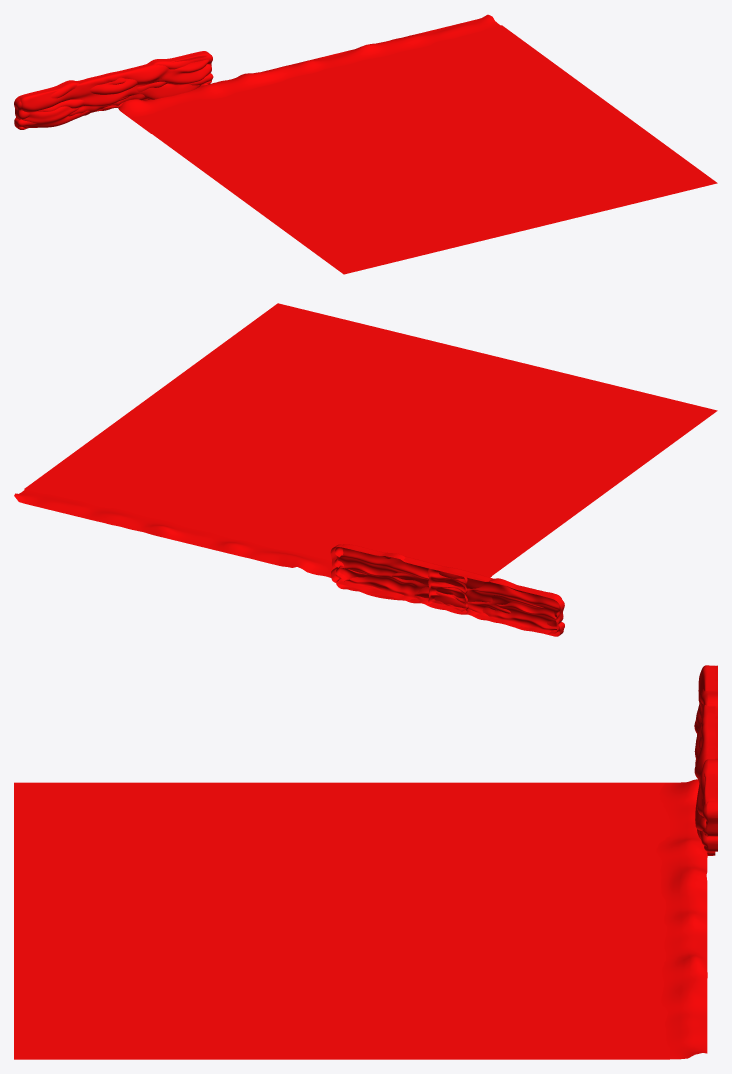
The model's file is Enviroment 1.fbx.
3 renders of one model, top to bottom at view 1: azimuth 30°, elevation 25°; view 2: azimuth 150°, elevation 25°; view 3: azimuth 270°, elevation 25°, orthographic. The views are drawn at different scales.
Visible parts, largest first — view 1: Suelo_2, Suelo, Pared_4, Pared_5; view 2: Suelo_2, Pared_5, Suelo, Pared_4, Pared_6; view 3: Suelo_2, Suelo, Pared_4, Pared_5.
Boxes of the visible parts, x1=… form: Suelo_2: x1=128, y1=25, x2=717, y2=274; Suelo: x1=118, y1=14, x2=500, y2=133; Pared_4: x1=19, y1=52, x2=211, y2=127; Pared_5: x1=14, y1=51, x2=213, y2=129; Suelo_2: x1=24, y1=303, x2=717, y2=577; Pared_5: x1=330, y1=544, x2=564, y2=636; Suelo: x1=14, y1=489, x2=491, y2=604; Pared_4: x1=334, y1=544, x2=561, y2=633; Pared_6: x1=428, y1=568, x2=468, y2=611; Suelo_2: x1=14, y1=782, x2=669, y2=1059; Suelo: x1=656, y1=779, x2=707, y2=1059; Pared_4: x1=694, y1=665, x2=715, y2=855; Pared_5: x1=694, y1=665, x2=717, y2=851.
Bounding box in the file's own units: 92.47 × 7.59 × 78.61.
